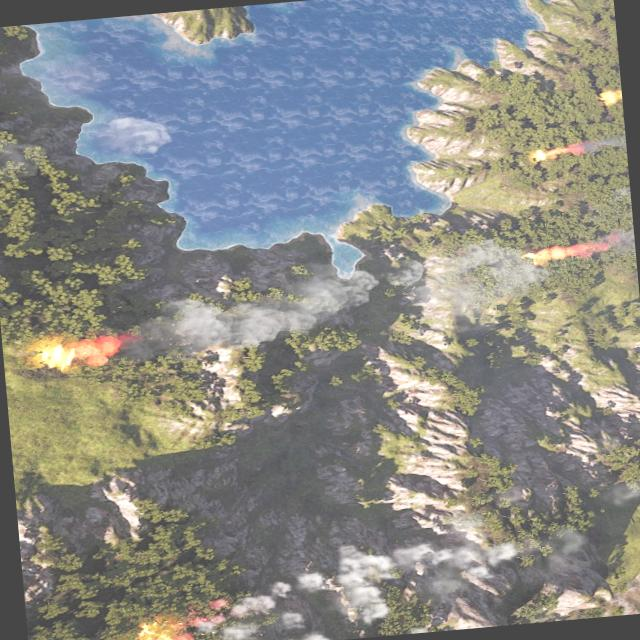fire: (32, 334, 122, 375), (525, 240, 600, 266), (131, 614, 195, 640), (532, 144, 573, 162), (599, 87, 622, 105)
smoke: (196, 530, 527, 640), (120, 254, 384, 360), (395, 234, 545, 340), (91, 114, 176, 163), (569, 134, 627, 160)
